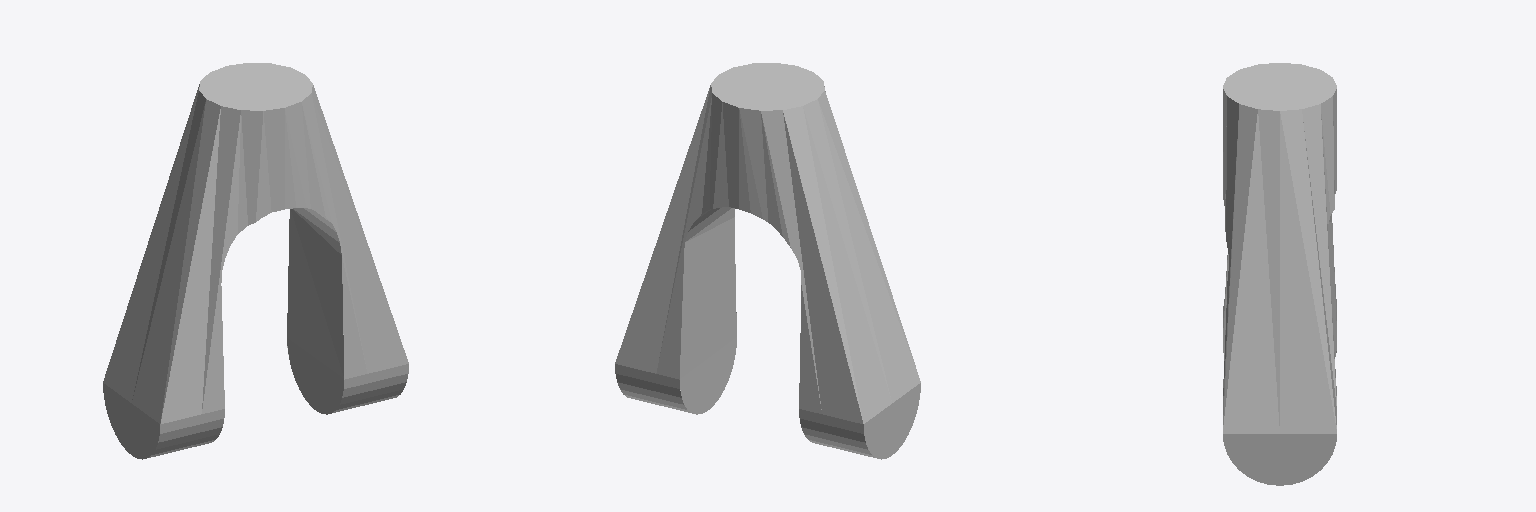
Rendered from articulation4O.obj.
3 views of the same model, side by side, from view 1: azimuth 30°, elevation 25°; view 2: azimuth 150°, elevation 25°; view 3: azimuth 270°, elevation 25° (orthographic).
Parts seen in each view (by area): view 1: Cylinder_Cylinder.000, Cylinder_Cylinder.002_Cylinder_Cylinder.003, Cylinder_Cylinder.005_Cylinder_Cylinder.007; view 2: Cylinder_Cylinder.000, Cylinder_Cylinder.002_Cylinder_Cylinder.003, Cylinder_Cylinder.005_Cylinder_Cylinder.007; view 3: Cylinder_Cylinder.001_Cylinder_Cylinder.002, Cylinder_Cylinder.000, Cylinder_Cylinder.005_Cylinder_Cylinder.007.
Part boxes in pixels (left/top/right/bottom): Cylinder_Cylinder.000: left=105, top=63, right=408, bottom=457; Cylinder_Cylinder.002_Cylinder_Cylinder.003: left=103, top=91, right=220, bottom=459; Cylinder_Cylinder.005_Cylinder_Cylinder.007: left=287, top=208, right=343, bottom=414; Cylinder_Cylinder.000: left=615, top=63, right=874, bottom=457; Cylinder_Cylinder.002_Cylinder_Cylinder.003: left=803, top=91, right=920, bottom=459; Cylinder_Cylinder.005_Cylinder_Cylinder.007: left=680, top=207, right=736, bottom=414; Cylinder_Cylinder.001_Cylinder_Cylinder.002: left=1223, top=109, right=1336, bottom=485; Cylinder_Cylinder.000: left=1223, top=63, right=1336, bottom=424; Cylinder_Cylinder.005_Cylinder_Cylinder.007: left=1223, top=214, right=1336, bottom=356.
Size of the model in its own units: 5 by 6.5 by 2.